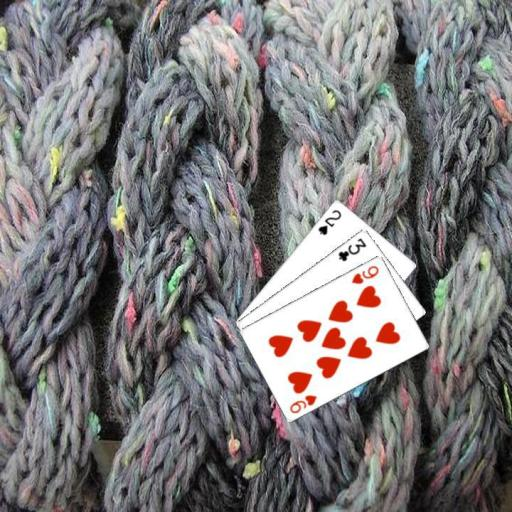2S: (315, 206, 343, 236)
3C: (335, 235, 368, 262)
9H: (287, 391, 319, 415), (349, 263, 381, 286)
